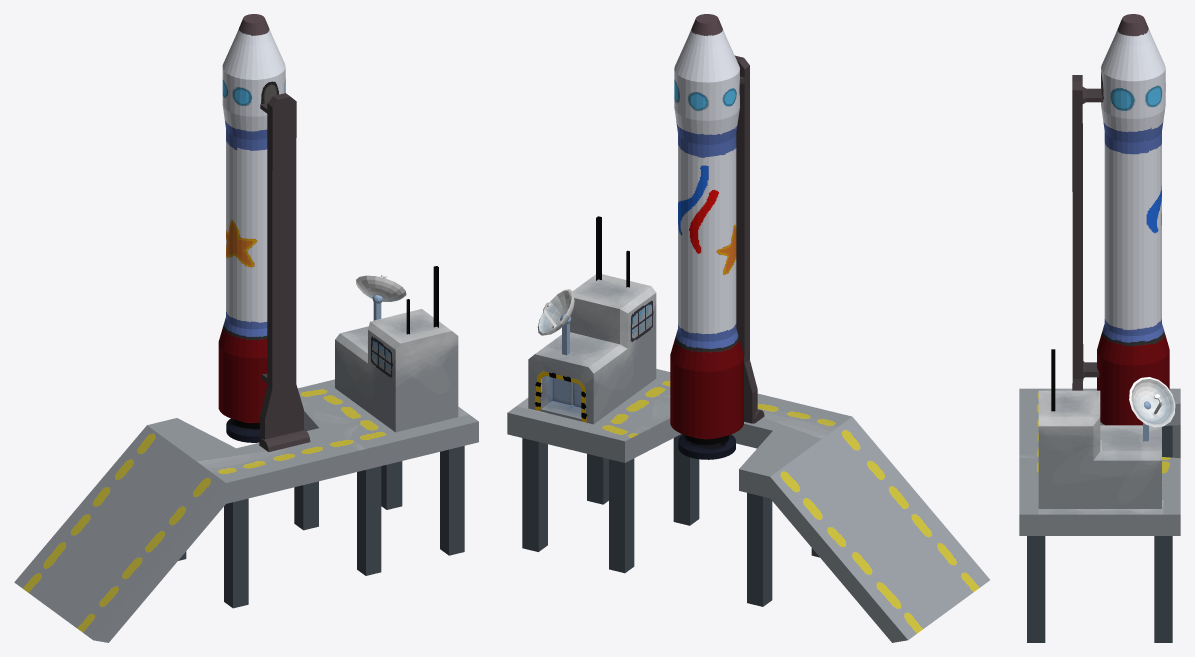
Rendered from LaunchSite.gltf.
The picture shows the model from 3 angles, left to right: view 1: azimuth 30°, elevation 25°; view 2: azimuth 150°, elevation 25°; view 3: azimuth 270°, elevation 25°; orthographic projection. The views are drawn at different scales.
Visible parts, largest first — view 1: LaunchSite; view 2: LaunchSite; view 3: LaunchSite.
Boxes of the visible parts, left/top/right/bottom form: LaunchSite: left=14, top=14, right=478, bottom=642; LaunchSite: left=507, top=14, right=989, bottom=642; LaunchSite: left=1019, top=14, right=1180, bottom=642.
Bounding box in the file's own units: 7.68 × 10.18 × 2.73.
Materials: 1 (1 with a texture image).
